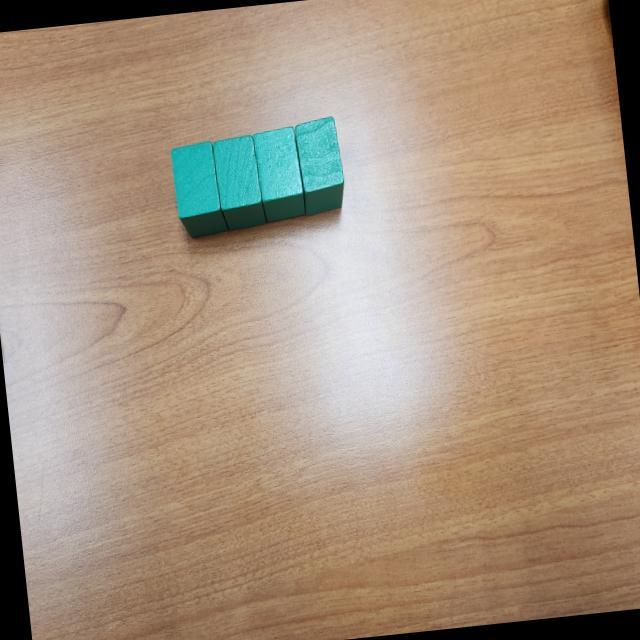green: (168, 138, 230, 241), (292, 115, 348, 217), (210, 132, 266, 232), (251, 124, 306, 223)
